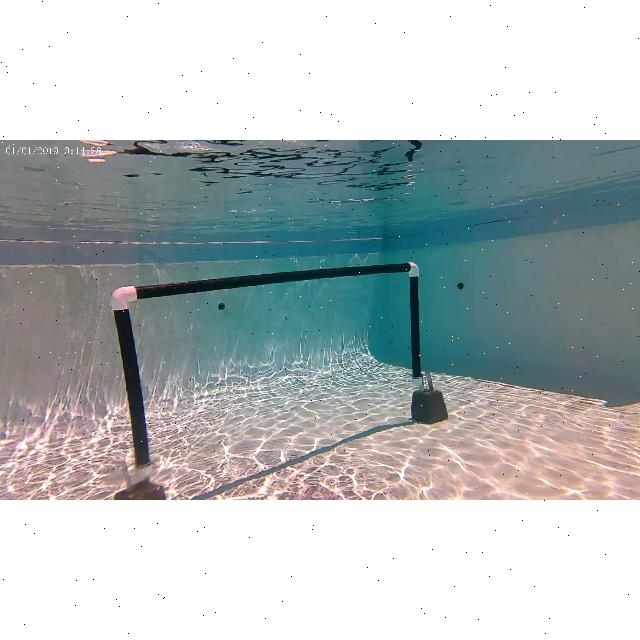prequal gate: (109, 262, 423, 478)
prequal gate leg l: (104, 280, 164, 480)
prequal gate leg r: (400, 257, 432, 405)
